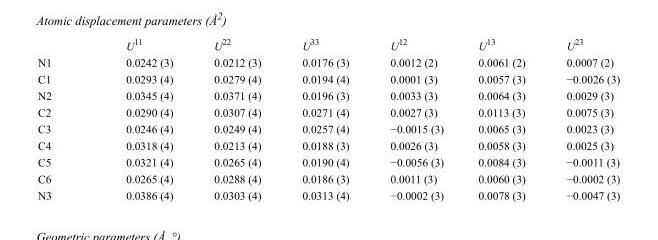table: (37, 36, 619, 201)
table column: (88, 36, 192, 201), (369, 36, 460, 201), (280, 36, 369, 201), (192, 36, 280, 201), (460, 36, 545, 201), (545, 36, 619, 201), (37, 36, 88, 201)
table column header: (37, 36, 619, 53)
table row: (37, 36, 619, 53), (37, 53, 619, 70), (37, 86, 619, 103), (37, 103, 619, 120), (37, 136, 619, 153), (37, 153, 619, 170), (37, 70, 619, 86), (37, 120, 619, 136), (37, 170, 619, 186), (37, 186, 619, 201)
